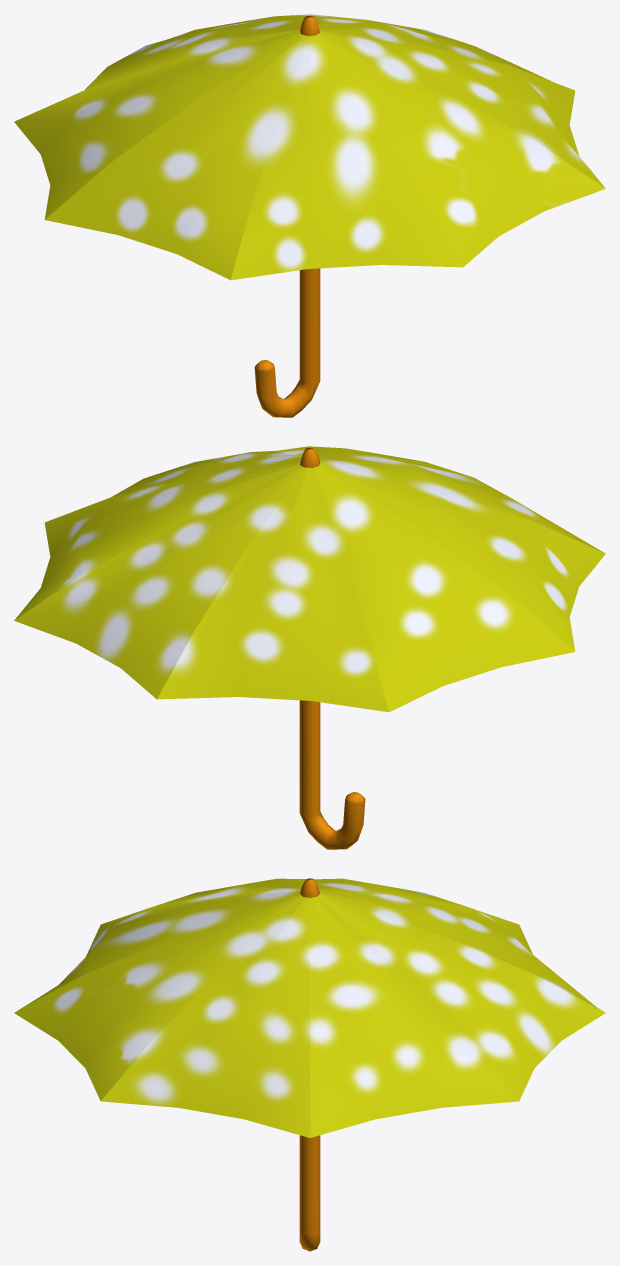
The model's file is cheese-umbrella-v1.glb.
3 renders of one model, top to bottom at view 1: azimuth 30°, elevation 25°; view 2: azimuth 150°, elevation 25°; view 3: azimuth 270°, elevation 25°, orthographic. The views are drawn at different scales.
Parts seen in each view (by area): view 1: 円, 円.001; view 2: 円, 円.001; view 3: 円, 円.001.
Boxes of the visible parts, x1=… form: 円: x1=14, y1=14, x2=605, y2=280; 円.001: x1=254, y1=16, x2=320, y2=417; 円: x1=14, y1=446, x2=605, y2=712; 円.001: x1=299, y1=448, x2=365, y2=849; 円: x1=14, y1=878, x2=605, y2=1137; 円.001: x1=299, y1=878, x2=320, y2=1251.
Bounding box in the file's own units: 2 × 1.42 × 2.
2 materials, 1 textured.
